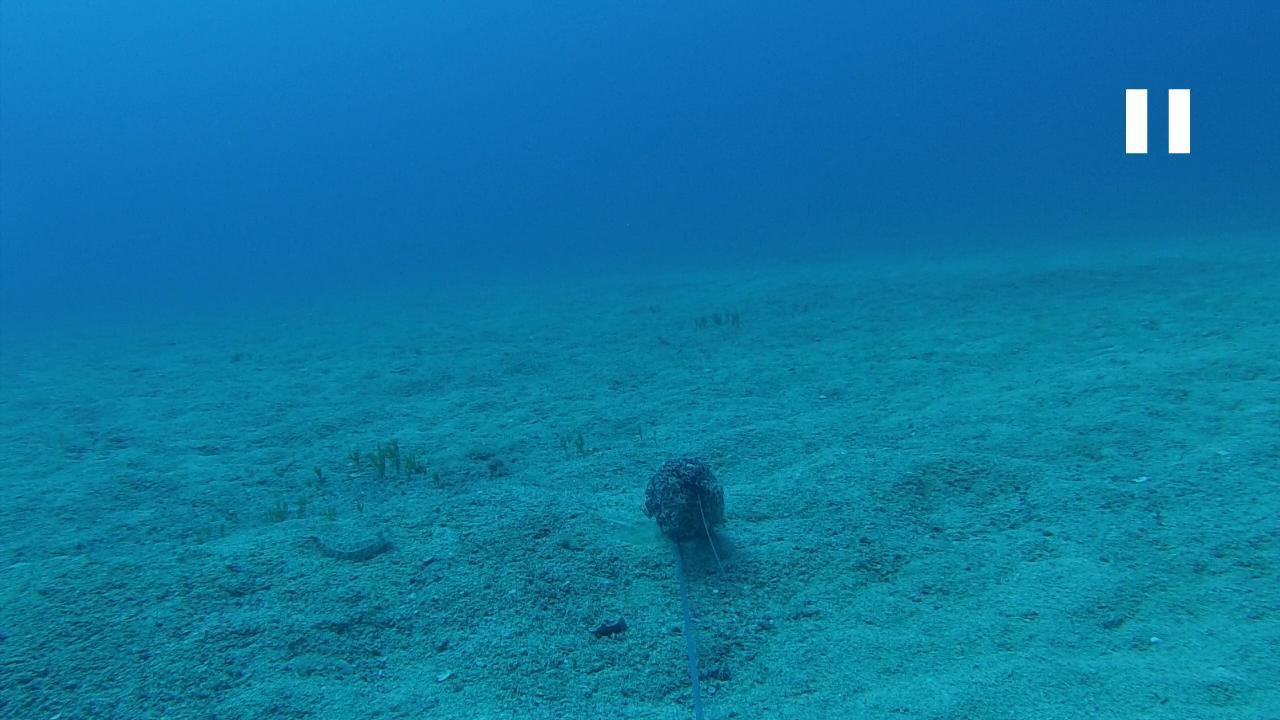bothus: (298, 522, 396, 562)
